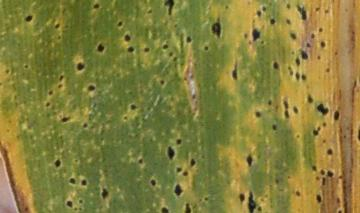tarspot: (250, 20, 263, 45), (246, 189, 258, 213), (210, 17, 222, 40), (295, 3, 309, 22), (230, 58, 240, 82), (162, 1, 176, 18), (316, 102, 331, 117), (165, 145, 176, 161), (99, 186, 110, 201), (173, 182, 184, 197), (311, 125, 323, 137), (245, 153, 254, 168), (298, 50, 310, 61), (75, 61, 86, 72), (95, 42, 106, 53), (287, 30, 298, 41), (59, 115, 74, 123), (280, 98, 290, 109), (304, 93, 314, 104), (325, 147, 335, 158), (188, 157, 197, 169), (237, 192, 246, 204), (314, 193, 323, 205), (332, 109, 340, 122), (53, 158, 63, 168), (64, 199, 74, 209), (129, 102, 139, 112), (86, 83, 97, 92), (320, 176, 329, 187), (286, 64, 294, 76), (122, 33, 132, 42), (67, 177, 77, 186), (185, 34, 194, 44), (273, 177, 282, 187), (253, 109, 262, 119), (284, 17, 293, 27), (318, 40, 327, 50), (184, 202, 192, 213), (272, 60, 280, 71), (293, 55, 301, 66), (356, 123, 360, 144), (126, 45, 135, 54), (327, 169, 336, 178), (291, 105, 299, 115), (293, 71, 301, 81), (80, 178, 88, 187), (149, 178, 157, 187), (254, 9, 263, 17), (313, 4, 321, 13), (316, 25, 324, 34), (310, 164, 318, 173), (334, 196, 343, 204), (46, 89, 56, 96), (142, 46, 152, 53), (283, 109, 290, 119), (57, 74, 65, 82), (158, 78, 166, 86), (161, 43, 169, 51), (182, 169, 190, 177), (270, 123, 278, 131), (259, 38, 267, 46), (323, 7, 331, 15), (309, 32, 317, 40), (304, 41, 312, 49), (294, 190, 302, 198), (24, 15, 33, 22), (160, 206, 169, 213), (175, 165, 182, 174), (269, 17, 276, 26), (301, 73, 308, 82), (319, 168, 326, 177), (55, 83, 65, 89), (53, 22, 61, 29), (44, 101, 52, 108), (81, 122, 89, 129), (122, 114, 129, 122), (172, 56, 180, 63), (203, 45, 210, 53), (175, 137, 182, 145), (137, 157, 144, 165), (256, 205, 263, 213), (285, 2, 292, 10), (324, 66, 331, 74), (63, 23, 71, 30), (92, 3, 101, 9), (116, 20, 123, 27), (146, 8, 153, 15), (242, 32, 249, 39), (223, 4, 230, 11), (266, 99, 273, 106), (314, 175, 321, 182), (260, 4, 268, 10), (315, 54, 323, 60), (338, 174, 344, 182), (285, 174, 293, 180), (77, 198, 84, 204), (76, 205, 83, 211), (73, 158, 79, 165), (295, 133, 301, 140), (23, 206, 30, 212), (7, 119, 14, 125), (56, 34, 62, 41), (167, 51, 173, 57), (203, 196, 209, 202), (200, 154, 206, 160), (343, 7, 349, 13), (23, 64, 30, 69), (321, 138, 326, 145), (336, 208, 343, 213), (4, 69, 10, 74), (333, 50, 339, 55), (321, 122, 326, 128), (342, 134, 347, 140), (263, 193, 269, 198), (259, 197, 265, 202), (5, 128, 11, 133), (1, 80, 4, 88)
